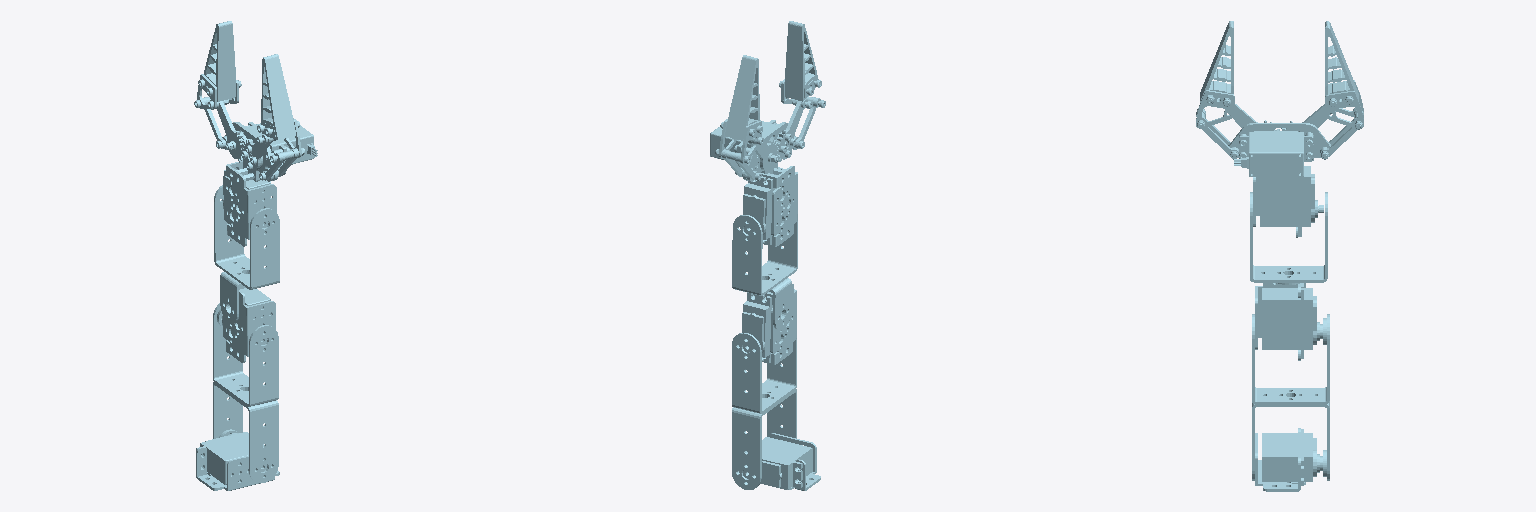
URDF robot description (streeing_arm):
<?xml version="1.0" encoding="utf-8"?>
<!-- This URDF was automatically created by SolidWorks to URDF Exporter! Originally created by [author] ([email redacted]) 
     Commit Version: 1.6.0-1-g15f4949  Build Version: 1.6.7594.29634
     For more information, please see http://wiki.ros.org/sw_urdf_exporter -->
<robot name="streeing_arm">
  <link name="arm_base_link">
    <inertial>
      <origin xyz="0.000199683039820826 0.005145144147916 0.012410896975763" rpy="0 0 0" />
      <mass value="0.0380299146996912" />
      <inertia
        ixx="6.59286998207165E-06"
        ixy="-1.5207196189166E-07"
        ixz="-6.1163552263237E-11"
        iyy="7.36864724408771E-06"
        iyz="1.45081779342908E-07"
        izz="1.12027270721149E-05" />
    </inertial>
    <visual>
      <origin xyz="0 0 0" rpy="0 0 0" />
      <geometry>
        <mesh filename="package://streeing_arm/meshes/base_link.STL" />
      </geometry>
      <material name="">
        <color rgba="0.741176470588235 0.901960784313726 0.956862745098039 1" />
      </material>
    </visual>
    <collision>
      <origin xyz="0 0 0" rpy="0 0 0" />
      <geometry>
        <mesh filename="package://streeing_arm/meshes/base_link.STL" />
      </geometry>
    </collision>
  </link>

  <link name="link_1">
    <inertial>
      <origin xyz="0.0304931121507161 4.94829871522384E-16 0.0525"  rpy="0 0 0" />
      <mass value="0.0182961255655795" />
      <inertia
        ixx="7.56857037469896E-06"
        ixy="-1.41852472239301E-19"
        ixz="-7.39088633164791E-21"
        iyy="1.62397575138123E-05"
        iyz="4.76456032830354E-22"
        izz="1.05132687532747E-05" />
    </inertial>
    <visual>
      <origin xyz="0 0 0" rpy="0 0 0" />
      <geometry>
        <mesh filename="package://streeing_arm/meshes/link_1.STL" />
      </geometry>
      <material name="">
        <color rgba="0.741176470588235 0.901960784313726 0.956862745098039 1" />
      </material>
    </visual>
    <collision>
      <origin xyz="0 0 0" rpy="0 0 0" />
      <geometry>
        <mesh filename="package://streeing_arm/meshes/link_1.STL" />
      </geometry>
    </collision>
  </link>

  <joint name="joint_1" type="revolute">
    <origin xyz="0.01 -0.020402 0.0135" rpy="0.0 0 1.5708" />
    <parent link="arm_base_link" />
    <child link="link_1" />
    <axis xyz="1 0 0" />
    <limit lower="0" upper="1.57" effort="100" velocity="3" />
  </joint>

  <link name="link_2">
    <inertial>
      <origin xyz="0.0257576432953458 0.00137715430708122 0.0206842707646627" rpy="0 0 0" />
      <mass value="0.0488195362560629" />
      <inertia
        ixx="1.15881140577187E-05"
        ixy="-1.43514518682294E-07"
        ixz="1.53551903987917E-07"
        iyy="1.97481412401206E-05"
        iyz="5.13246778264873E-08"
        izz="1.2125688470375E-05" />
    </inertial>
    <visual>
      <origin xyz="0 0 0" rpy="0 0 0" />
      <geometry>
        <mesh filename="package://streeing_arm/meshes/link_2.STL" />
      </geometry>
      <material name="">
        <color rgba="0.741176470588235 0.901960784313726 0.956862745098039 1" />
      </material>
    </visual>
    <collision>
      <origin xyz="0 0 0" rpy="0 0 0" />
      <geometry>
        <mesh filename="package://streeing_arm/meshes/link_2.STL" />
      </geometry>
    </collision>
  </link>

  <joint name="joint_2" type="revolute">
    <origin xyz="0 0 0.105" rpy="0 0 0" />
    <parent link="link_1" />
    <child link="link_2" />
    <axis xyz="1 0 0" />
    <limit lower="-1.57" upper="1.57" effort="100" velocity="3" />
  </joint>

  <link name="link_3">
    <inertial>
      <origin xyz="0.022461275278841 -0.00485434547928628 0.0330325603677447" rpy="0 0 0" />
      <mass value="0.0777215526484572" />
      <inertia
        ixx="1.297581319738E-05"
        ixy="-1.22287232933419E-07"
        ixz="1.60399323784462E-07"
        iyy="1.8770071220371E-05"
        iyz="-2.61891299098186E-07"
        izz="1.69444016979507E-05" />
    </inertial>
    <visual>
      <origin xyz="0 0 0" rpy="0 0 0" />
      <geometry>
        <mesh filename="package://streeing_arm/meshes/link_3.STL" />
      </geometry>
      <material name="">
        <color rgba="0.741176470588235 0.901960784313726 0.956862745098039 1" />
      </material>
    </visual>
    <collision>
      <origin xyz="0 0 0" rpy="0 0 0" />
      <geometry>
        <mesh filename="package://streeing_arm/meshes/link_3.STL" />
      </geometry>
    </collision>
  </link>

  <joint name="joint_3" type="revolute">
    <origin xyz="-0.0015 0 0.097505" rpy="0.12 0 0" />
    <parent link="link_2" />
    <child link="link_3" />
    <axis xyz="1 0 0" />
    <limit lower="-1.57" upper="1.57" effort="100" velocity="3" />
  </joint>

  <link name="link_4">
    <inertial>
      <origin xyz="-0.00564731558518881 0.00150000000000139 0.00640801185701134" rpy="0 0 0" />
      <mass value="0.00197604548440536" />
      <inertia
        ixx="1.95368168459778E-07"
        ixy="1.38081190332098E-22"
        ixz="1.51745831304819E-07"
        iyy="3.99845023290352E-07"
        iyz="-6.93648647047897E-21"
        izz="2.07440923057183E-07" />
    </inertial>
    <visual>
      <origin xyz="0 0 0" rpy="0 0 0" />
      <geometry>
        <mesh filename="package://streeing_arm/meshes/link_4.STL" />
      </geometry>
      <material name="">
        <color rgba="0.741176470588235 0.901960784313726 0.956862745098039 1" />
      </material>
    </visual>
    <collision>
      <origin xyz="0 0 0"  rpy="0 0 0" />
      <geometry>
        <mesh  filename="package://streeing_arm/meshes/link_4.STL" />
      </geometry>
    </collision>
  </link>

  <joint  name="joint_4"  type="revolute">
    <origin  xyz="0.034 0.013958 0.052568"  rpy="0.13973 0 -3.1416" />
    <parent  link="link_3" />
    <child  link="link_4" />
    <axis  xyz="0 -1 0" />
    <limit  lower="-0.8"  upper="0.8"  effort="100"  velocity="3" />
  </joint>

  <link name="link_8">
    <inertial>
      <origin  xyz="-0.00614995179393875 0.0103163534952073 0.0192779652005062"  rpy="0 0 0" />
      <mass  value="0.0110869952460788" />
      <inertia
        ixx="2.26639796636765E-06"
        ixy="2.86299548209749E-14"
        ixz="-3.12170251804134E-07"
        iyy="2.52356232166153E-06"
        iyz="2.26204071684424E-13"
        izz="7.09382869443721E-07" />
    </inertial>
    <visual>
      <origin  xyz="0 0 0"  rpy="0 0 0" />
      <geometry>
        <mesh  filename="package://streeing_arm/meshes/link_8.STL" />
      </geometry>
      <material  name="">
        <color  rgba="0.741176470588235 0.901960784313726 0.956862745098039 1" />
      </material>
    </visual>
    <collision>
      <origin  xyz="0 0 0"  rpy="0 0 0" />
      <geometry>
        <mesh  filename="package://streeing_arm/meshes/link_8.STL" />
      </geometry>
    </collision>
  </link>

  <joint  name="joint_8"  type="revolute">
    <origin  xyz="-0.024471 -0.004 0.025023"  rpy="0 0 0" />
    <parent  link="link_4" />
    <child  link="link_8" />
    <axis  xyz="0 -1 0" />
    <limit  lower="-0.8"  upper="0.8"  effort="100"  velocity="3" />
  </joint>

  <link  name="link_5">
    <inertial>
      <origin  xyz="0.00369362330435792 0.00223507058766409 0.0043613275739503"  rpy="0 0 0" />
      <mass  value="0.0029710856680058" />
      <inertia
        ixx="2.05767246894327E-07"
        ixy="-1.73944789062283E-21"
        ixz="-1.40876829989061E-07"
        iyy="4.07485385419228E-07"
        iyz="-1.58138773852585E-21"
        izz="2.13065038138551E-07" />
    </inertial>
    <visual>
      <origin  xyz="0 0 0"  rpy="0 0 0" />
      <geometry>
        <mesh  filename="package://streeing_arm/meshes/link_5.STL" />
      </geometry>
      <material  name="">
        <color  rgba="0.741176470588235 0.901960784313726 0.956862745098039 1" />
      </material>
    </visual>
    <collision>
      <origin  xyz="0 0 0" rpy="0 0 0" />
      <geometry>
        <mesh  filename="package://streeing_arm/meshes/link_5.STL" />
      </geometry>
    </collision>
  </link>

  <joint  name="joint_5" type="revolute">
    <origin  xyz="0.009 0.013958 0.052568"  rpy="0.13973 0 -3.1416" />
    <parent link="link_3" />
    <child  link="link_5" />
    <axis  xyz="0 1 0" />
    <limit  lower="-0.8"  upper="0.8"  effort="100"  velocity="3" />
  </joint>

  <link  name="link_9">
    <inertial>
      <origin  xyz="0.00634496611832598 0.0110972731697096 0.020560294407977"  rpy="0 0 0" />
      <mass  value="0.0102295319024209" />
      <inertia
        ixx="2.2117714850267E-06"
        ixy="-1.90044159812695E-15"
        ixz="2.98211660889234E-07"
        iyy="2.41260879364446E-06"
        iyz="2.25907313831134E-13"
        izz="6.52484215993186E-07" />
    </inertial>
    <visual>
      <origin  xyz="0 0 0"  rpy="0 0 0" />
      <geometry>
        <mesh  filename="package://streeing_arm/meshes/link_9.STL" />
      </geometry>
      <material  name="">
        <color  rgba="0.741176470588235 0.901960784313726 0.956862745098039 1" />
      </material>
    </visual>
    <collision>
      <origin  xyz="0 0 0"  rpy="0 0 0" />
      <geometry>
        <mesh  filename="package://streeing_arm/meshes/link_9.STL" />
      </geometry>
    </collision>
  </link>

  <joint  name="joint_9"  type="revolute">
    <origin  xyz="0.024099 -0.004 0.025382"  rpy="0 0 0" />
    <parent  link="link_5" />
    <child  link="link_9" />
    <axis  xyz="0 -1 0" />
    <limit  lower="-0.8"  upper="0.8"  effort="100"  velocity="3" />
  </joint>

  <link  name="link_6">
    <inertial>
      <origin  xyz="-0.0129506495019555 0.00700000000000344 0.011812320726033"  rpy="0 0 0" />
      <mass  value="0.00108778506953505" />
      <inertia
        ixx="8.86285716063773E-08"
        ixy="1.85493072054669E-21"
        ixz="8.30022521497664E-08"
        iyy="1.71922619588063E-07"
        iyz="-1.87701277774844E-21"
        izz="8.49257255859881E-08" />
    </inertial>
    <visual>
      <origin  xyz="0 0 0"  rpy="0 0 0" />
      <geometry>
        <mesh  filename="package://streeing_arm/meshes/link_6.STL" />
      </geometry>
      <material  name="">
        <color  rgba="0.741176470588235 0.901960784313726 0.956862745098039 1" />
      </material>
    </visual>
    <collision>
      <origin  xyz="0 0 0"  rpy="0 0 0" />
      <geometry>
        <mesh  filename="package://streeing_arm/meshes/link_6.STL" />
      </geometry>
    </collision>
  </link>

  <joint  name="joint_6"  type="revolute">
    <origin  xyz="0.054203 0.012934 0.045287"  rpy="0.13973 0 -3.1416" />
    <parent  link="link_3" />
    <child  link="link_6" />
    <axis  xyz="0 -1 0" />
    <limit  lower="-0.8"  upper="0.8"  effort="100"  velocity="3" />
  </joint>

  <link  name="link_7">
    <inertial>
      <origin    xyz="0.0127747670306929 0.00699999999999876 0.0120023151330441"   rpy="0 0 0" />
      <mass  value="0.00108778506953505" />
      <inertia
        ixx="9.10794072428584E-08"
        ixy="-3.95365195528865E-22"
        ixz="-8.29113514522176E-08"
        iyy="1.71922619588062E-07"
        iyz="-4.47487143181348E-22"
        izz="8.24748899495065E-08" />
    </inertial>
    <visual>
      <origin  xyz="0 0 0"  rpy="0 0 0" />
      <geometry>
        <mesh  filename="package://streeing_arm/meshes/link_7.STL" />
      </geometry>
      <material  name="">
        <color  rgba="0.741176470588235 0.901960784313726 0.956862745098039 1" />
      </material>
    </visual>
    <collision>
      <origin  xyz="0 0 0"  rpy="0 0 0" />
      <geometry>
        <mesh  filename="package://streeing_arm/meshes/link_7.STL" />
      </geometry>
    </collision>
  </link>

  <joint  name="joint_7"  type="revolute">
    <origin  xyz="-0.011203 0.012934 0.045287"  rpy="0.13973 0 -3.1416" />
    <parent  link="link_3" />
    <child  link="link_7" />
    <axis  xyz="0 -1 0" />
    <limit  lower="-0.8"  upper="0.8"  effort="100"  velocity="3" />
  </joint>

</robot>

--- What the picture shows (computed from the rendered views, not written in the file) ---
The picture shows the robot from 3 angles, left to right: view 1: azimuth 30°, elevation 25°; view 2: azimuth 150°, elevation 25°; view 3: azimuth 270°, elevation 25°; orthographic projection.
Model streeing_arm with 10 links and 9 joints (9 revolute), rooted at arm_base_link, posed all joints at 0.
Visible links, largest first — view 1: link_1, link_2, link_3, arm_base_link, link_9, link_8, link_5, link_4; view 2: link_1, link_2, link_3, link_8, arm_base_link, link_9, link_5; view 3: link_3, link_2, arm_base_link, link_1, link_8, link_9.
Link boxes in pixels (x1,y1,x2,y2): link_1: [213, 303, 278, 482]; link_2: [214, 185, 279, 362]; link_3: [216, 122, 317, 246]; arm_base_link: [196, 432, 279, 490]; link_9: [256, 54, 304, 162]; link_8: [194, 21, 241, 109]; link_5: [241, 136, 271, 171]; link_4: [217, 101, 244, 162]; link_1: [732, 333, 796, 489]; link_2: [732, 215, 797, 364]; link_3: [710, 120, 804, 246]; link_8: [715, 55, 763, 164]; arm_base_link: [746, 433, 820, 490]; link_9: [779, 21, 825, 108]; link_5: [776, 101, 803, 161]; link_3: [1228, 123, 1330, 237]; link_2: [1250, 192, 1327, 360]; arm_base_link: [1255, 428, 1319, 491]; link_1: [1252, 314, 1329, 480]; link_8: [1325, 21, 1363, 129]; link_9: [1196, 21, 1234, 128].
Size in the robot's own frame: 0.0816 by 0.1219 by 0.3623 metres.
Meshes: 10 distinct files referenced, 10 mesh visuals loaded (10 binary STL).